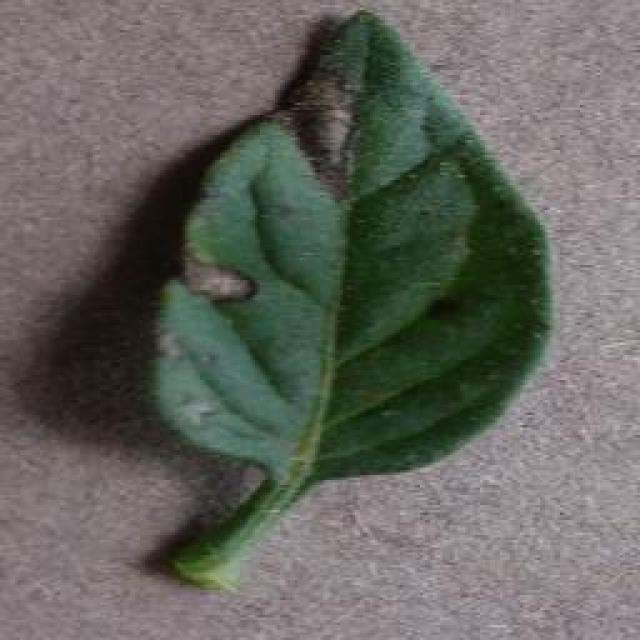Tomato Early blight leaf: (150, 13, 552, 615)
